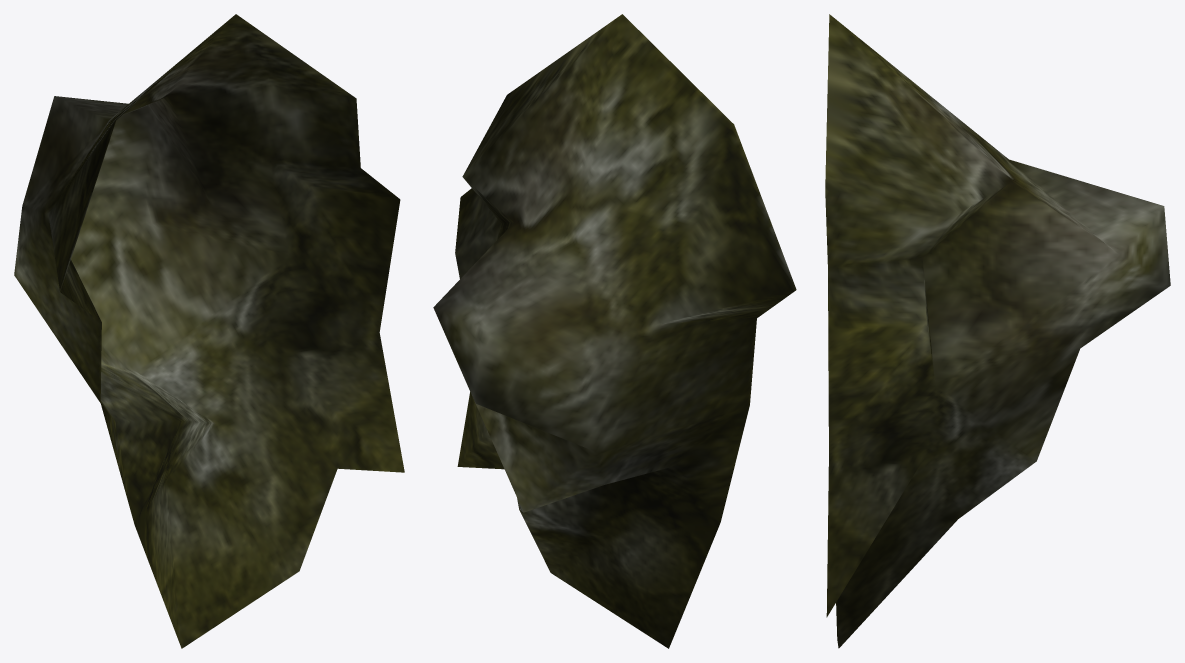
File: MEP_GroundRocks_01_e_LOD_01.fbx
The picture shows the model from 3 angles, left to right: view 1: azimuth 30°, elevation 25°; view 2: azimuth 150°, elevation 25°; view 3: azimuth 270°, elevation 25°; orthographic projection. The views are drawn at different scales.
Parts seen in each view (by area): view 1: MEP_GroundRock_01_e_LOD_01; view 2: MEP_GroundRock_01_e_LOD_01; view 3: MEP_GroundRock_01_e_LOD_01.
Boxes of the visible parts, bbox=[...] form: MEP_GroundRock_01_e_LOD_01: bbox=[14, 14, 404, 648]; MEP_GroundRock_01_e_LOD_01: bbox=[433, 14, 796, 648]; MEP_GroundRock_01_e_LOD_01: bbox=[825, 14, 1170, 648].
Bounding box in the file's own units: 1.63 × 2.83 × 1.36.
